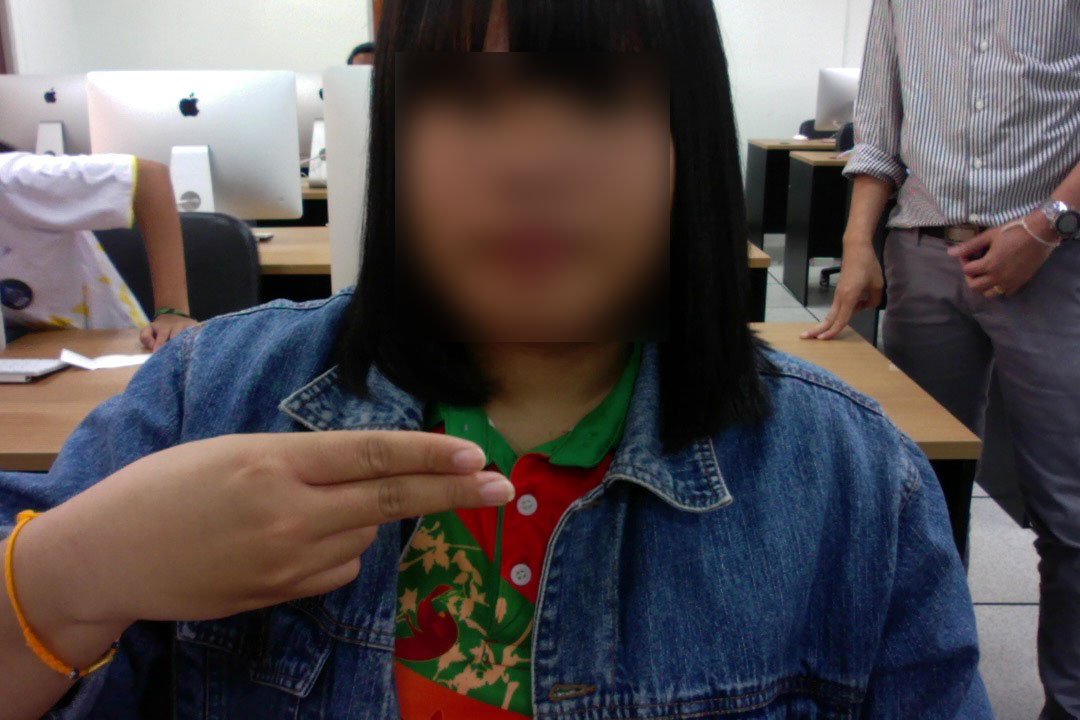hor: (68, 426, 525, 628)
